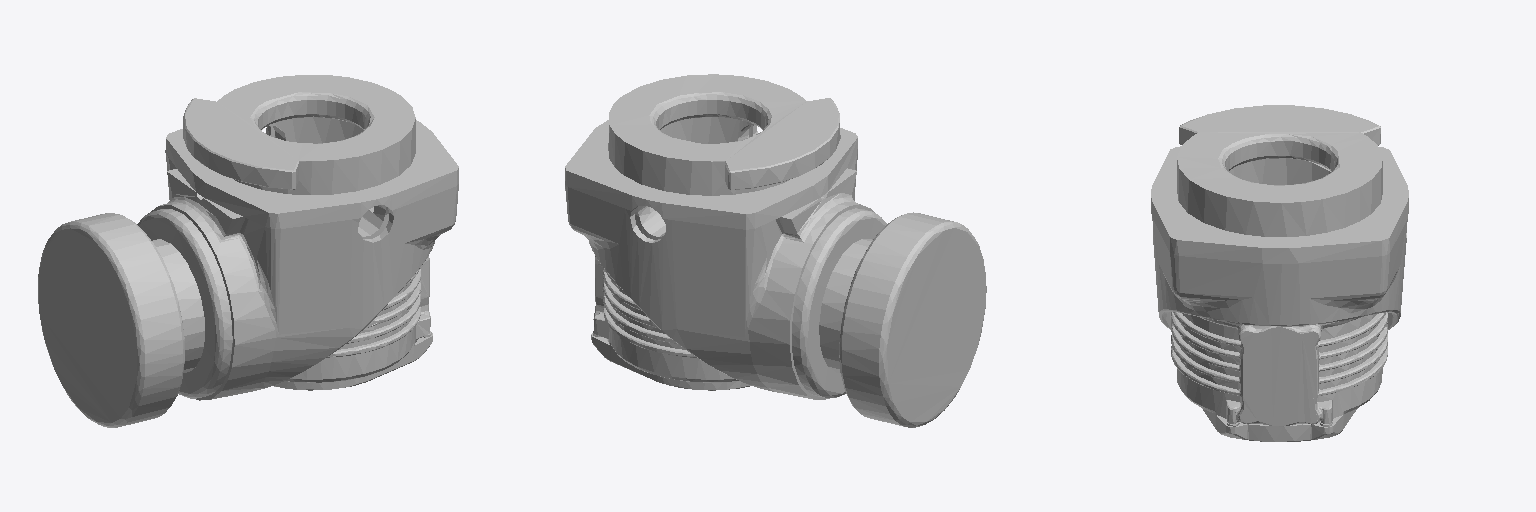
The model's file is front_left_hip.obj.
The picture shows the model from 3 angles: view 1: azimuth 30°, elevation 25°; view 2: azimuth 150°, elevation 25°; view 3: azimuth 270°, elevation 25°; orthographic projection.
Parts seen in each view (by area): view 1: front_left_hip_02-042137-001-A00_TOP_LEVEL_DEFEATURED_-_NOT_FOR_; view 2: front_left_hip_02-042137-001-A00_TOP_LEVEL_DEFEATURED_-_NOT_FOR_; view 3: front_left_hip_02-042137-001-A00_TOP_LEVEL_DEFEATURED_-_NOT_FOR_.
Part boxes in pixels (x1,y1,x2,y2): front_left_hip_02-042137-001-A00_TOP_LEVEL_DEFEATURED_-_NOT_FOR_: (38,75,458,427); front_left_hip_02-042137-001-A00_TOP_LEVEL_DEFEATURED_-_NOT_FOR_: (565,74,986,427); front_left_hip_02-042137-001-A00_TOP_LEVEL_DEFEATURED_-_NOT_FOR_: (1151,105,1408,441).
Bounding box in the file's own units: 0.1417 × 0.1001 × 0.0941.